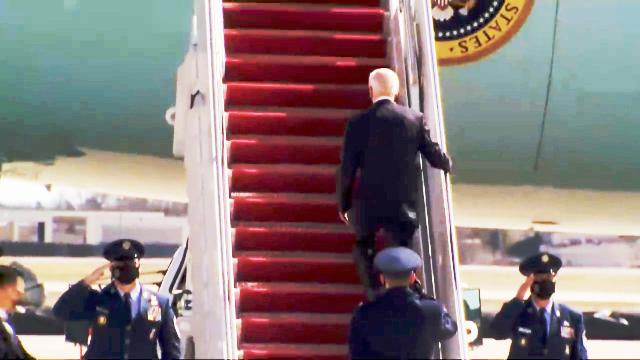berdiri: (47, 238, 185, 360), (336, 246, 456, 360), (484, 248, 592, 360)
berjalan: (324, 67, 454, 305)
